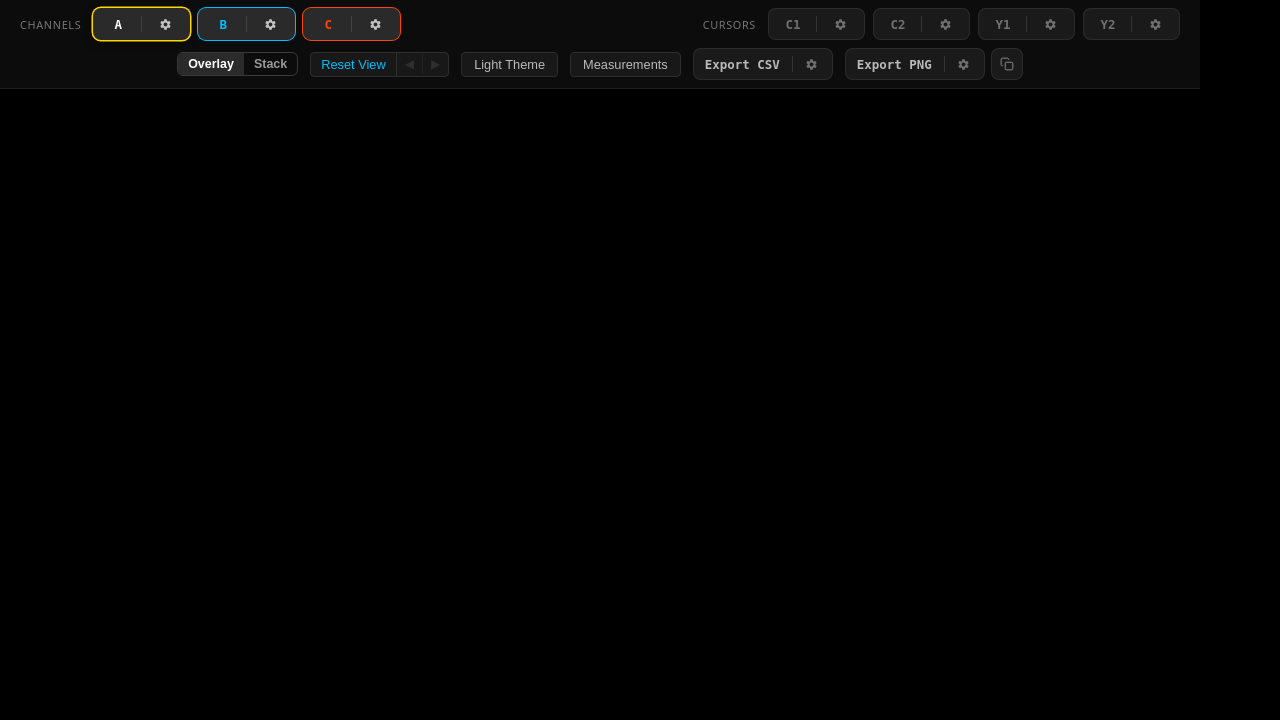
CursorFeatureJumpSection (issue #314) › CursorFeatureJumpSection appears only when Channel source is bound to a specific channel present in capture
This screenshot has width=1280, height=720.
Click the button named "Configure Cursor C1" at [841, 24], box x1=817 y1=0 x2=865 y2=48
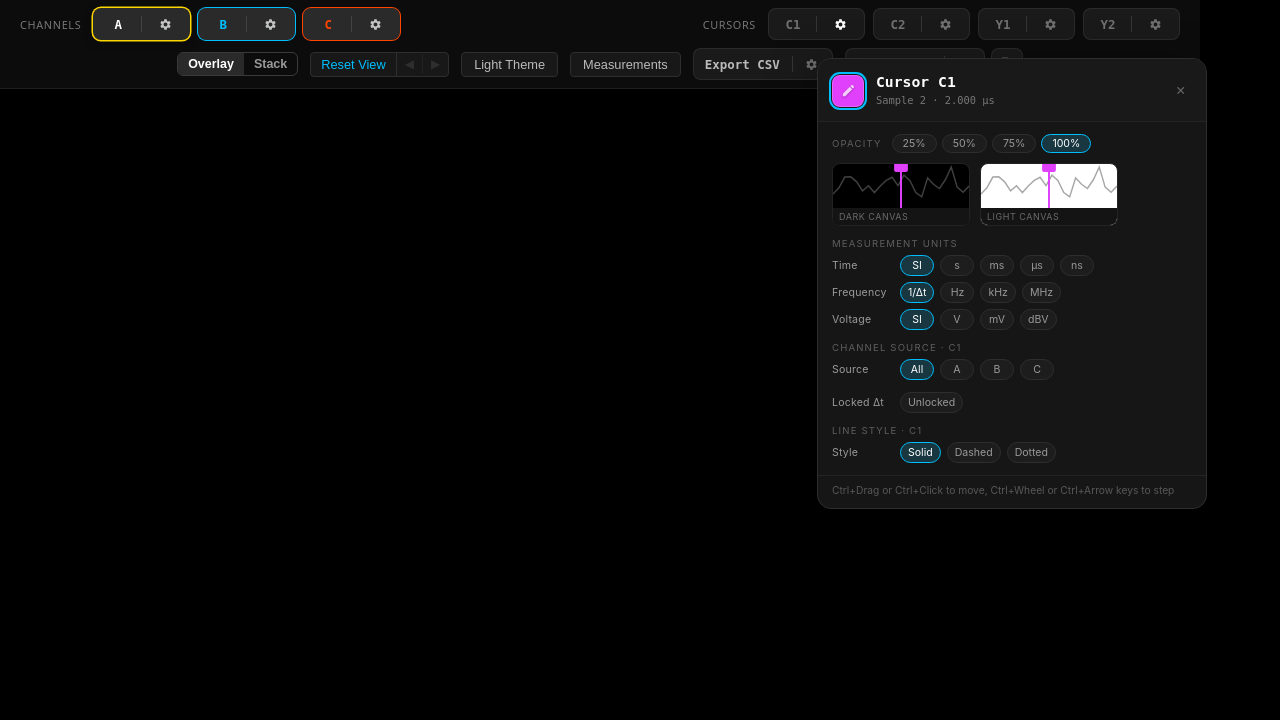
Click the button with test id "setting-binding-a" at [957, 369], box x1=940 y1=359 x2=974 y2=380
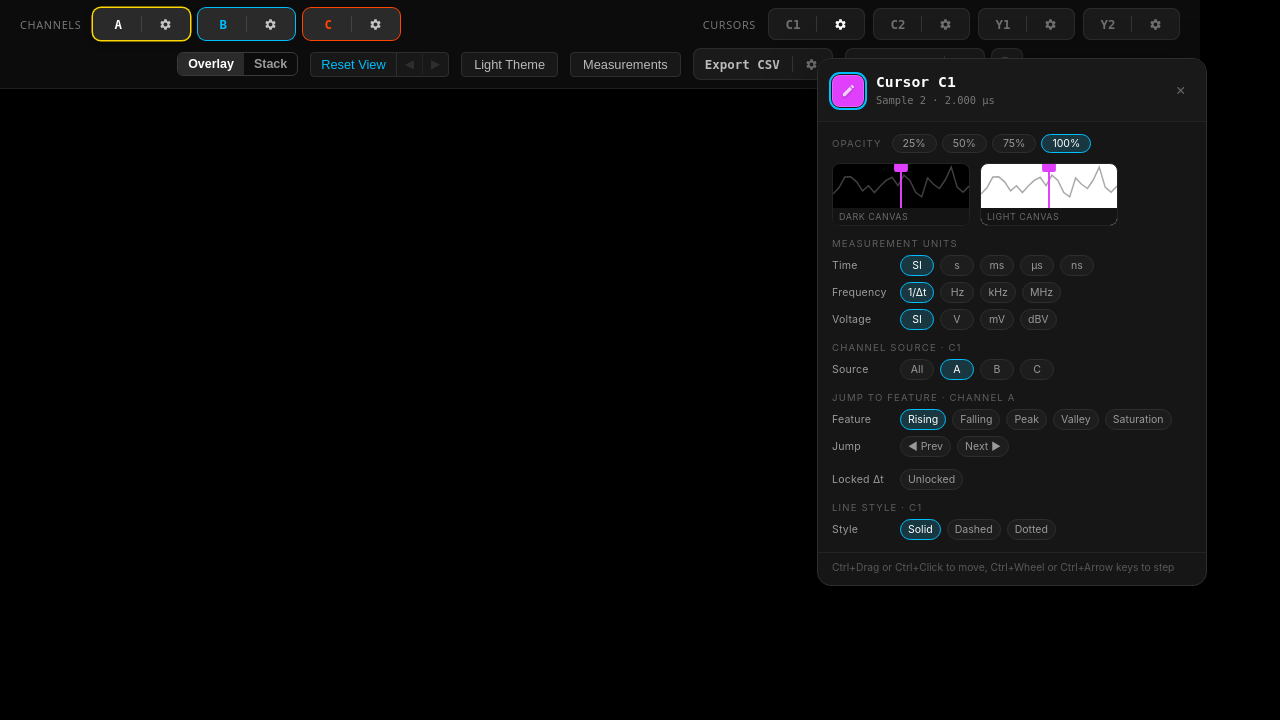
Check: the element with test id "cursor-feature-jump-section" is shown, box x1=832 y1=392 x2=1192 y2=457
Click the button with test id "setting-binding-all" at [917, 369], box x1=900 y1=359 x2=934 y2=380
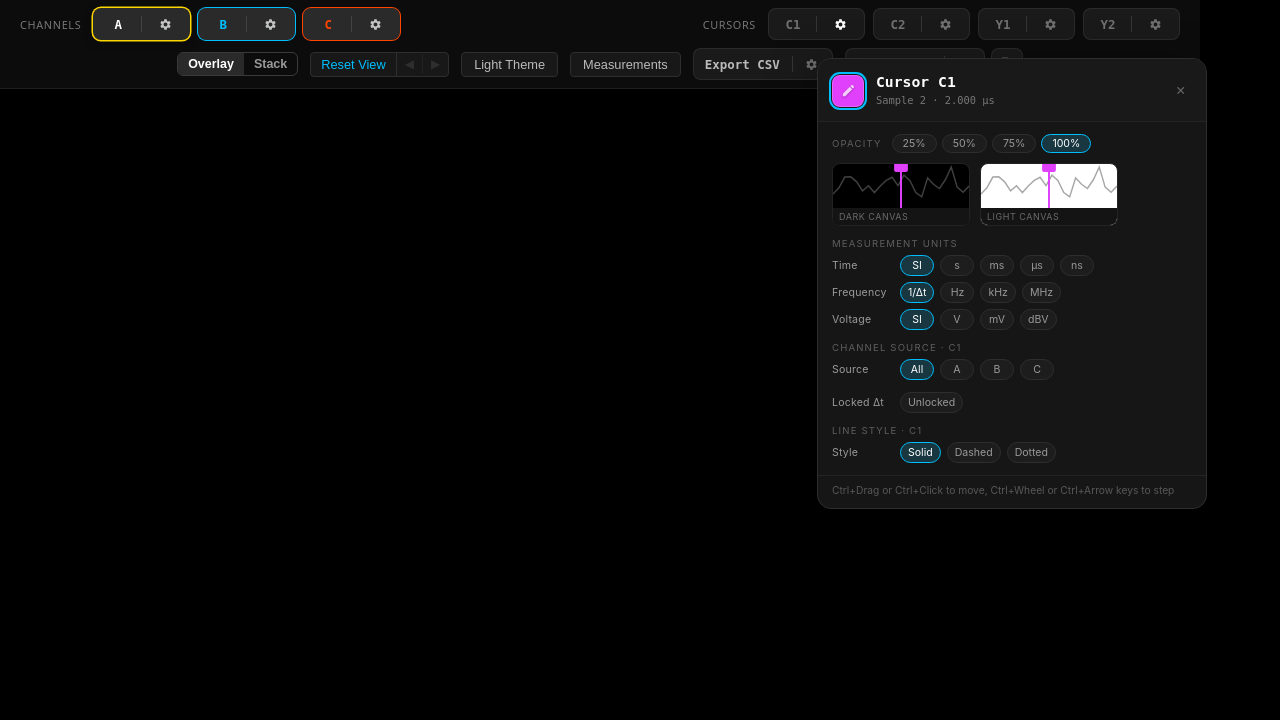
Check: the element with test id "cursor-feature-jump-section" is gone
